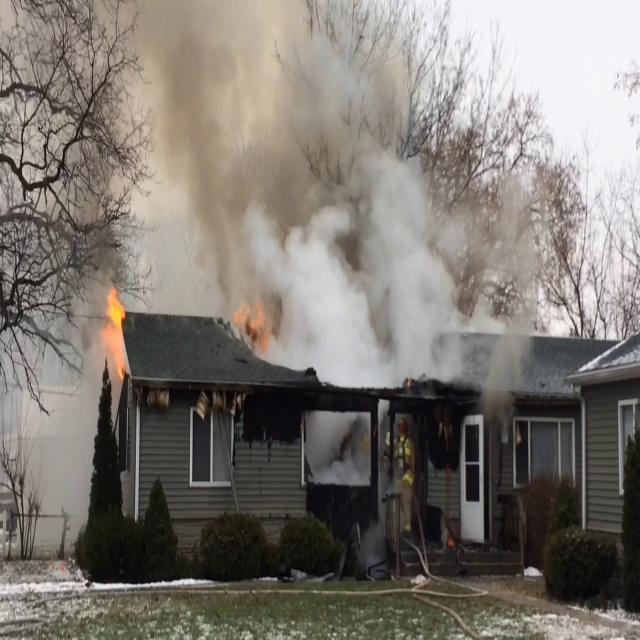smoke: (145, 16, 320, 273), (328, 184, 437, 370)
